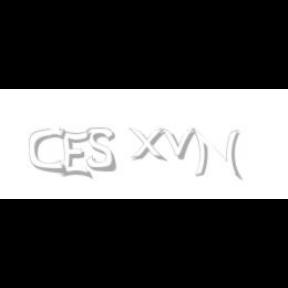C: (30, 128, 66, 174)
E: (59, 128, 92, 180)
N: (192, 128, 240, 180)
S: (86, 128, 118, 172)
v: (159, 128, 199, 160)
x: (129, 128, 171, 162)
